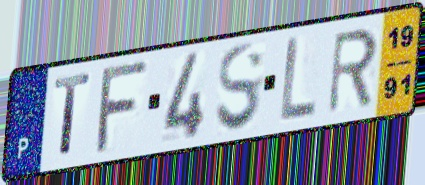4: (161, 50, 207, 142)
F: (92, 57, 152, 158)
L: (277, 33, 319, 123)
R: (326, 25, 380, 117)
S: (213, 40, 267, 135)
T: (52, 70, 93, 160)
